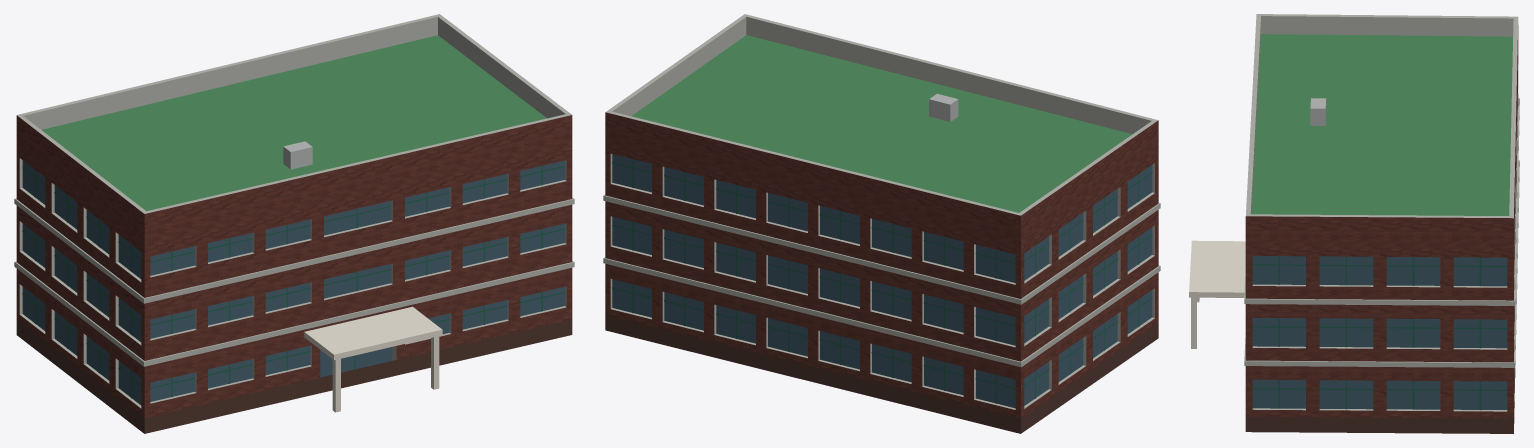
The picture shows the model from 3 angles, left to right: view 1: azimuth 30°, elevation 25°; view 2: azimuth 150°, elevation 25°; view 3: azimuth 270°, elevation 25°; orthographic projection.
Visible parts, largest first — view 1: rear1__wall-plaster, rear1__roof, rear1__glass, rear1__trim-concrete, rear1__base-stone, rear1__canopy-concrete, rear1__frame, rear1__equipment; view 2: rear1__wall-plaster, rear1__roof, rear1__glass, rear1__trim-concrete, rear1__base-stone, rear1__frame, rear1__equipment; view 3: rear1__roof, rear1__wall-plaster, rear1__glass, rear1__trim-concrete, rear1__base-stone, rear1__canopy-concrete, rear1__frame, rear1__equipment.
Boxes of the visible parts, <box> form: rear1__wall-plaster: <box>16,115,572,417</box>; rear1__roof: <box>42,35,546,211</box>; rear1__glass: <box>22,160,564,405</box>; rear1__trim-concrete: <box>14,14,574,408</box>; rear1__base-stone: <box>16,319,572,433</box>; rear1__canopy-concrete: <box>304,306,442,412</box>; rear1__frame: <box>22,165,565,398</box>; rear1__equipment: <box>283,141,312,169</box>; rear1__wall-plaster: <box>605,112,1158,418</box>; rear1__roof: <box>631,35,1132,212</box>; rear1__glass: <box>612,154,1152,408</box>; rear1__trim-concrete: <box>603,14,1160,409</box>; rear1__base-stone: <box>605,315,1158,433</box>; rear1__frame: <box>612,159,1152,403</box>; rear1__equipment: <box>929,93,958,121</box>; rear1__roof: <box>1251,34,1512,215</box>; rear1__wall-plaster: <box>1245,25,1518,418</box>; rear1__glass: <box>1252,256,1507,409</box>; rear1__trim-concrete: <box>1244,14,1519,411</box>; rear1__base-stone: <box>1245,368,1515,433</box>; rear1__canopy-concrete: <box>1189,240,1245,348</box>; rear1__frame: <box>1252,256,1507,410</box>; rear1__equipment: <box>1310,98,1326,125</box>.
Size of the model in its own units: 25.63 by 12.55 by 17.43.
8 materials, 1 textured.
